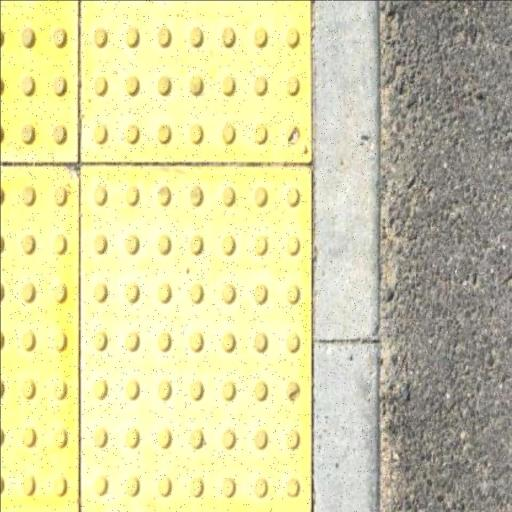dot: (79, 163, 317, 511), (81, 1, 310, 162)
